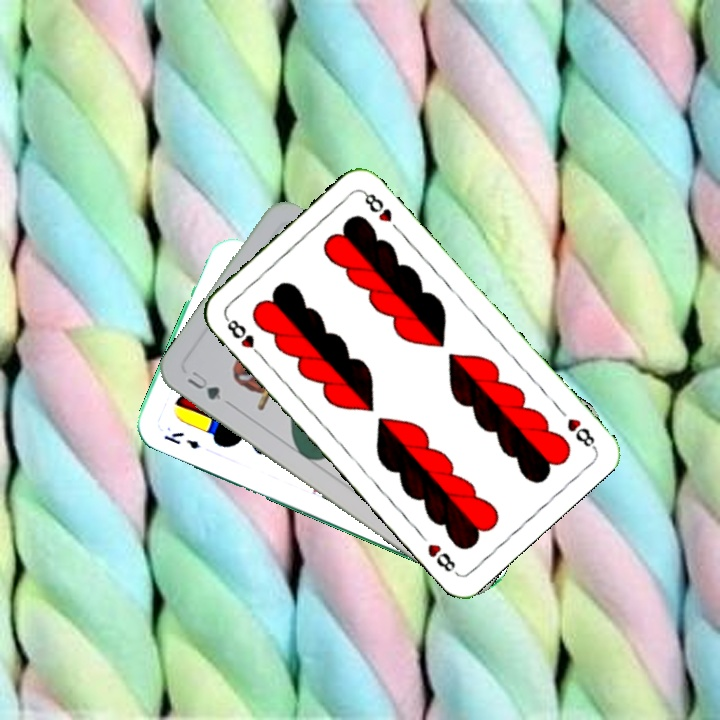EK: (159, 428, 203, 452)
GU: (183, 367, 233, 408)
H8: (221, 313, 266, 361), (563, 414, 599, 451)
